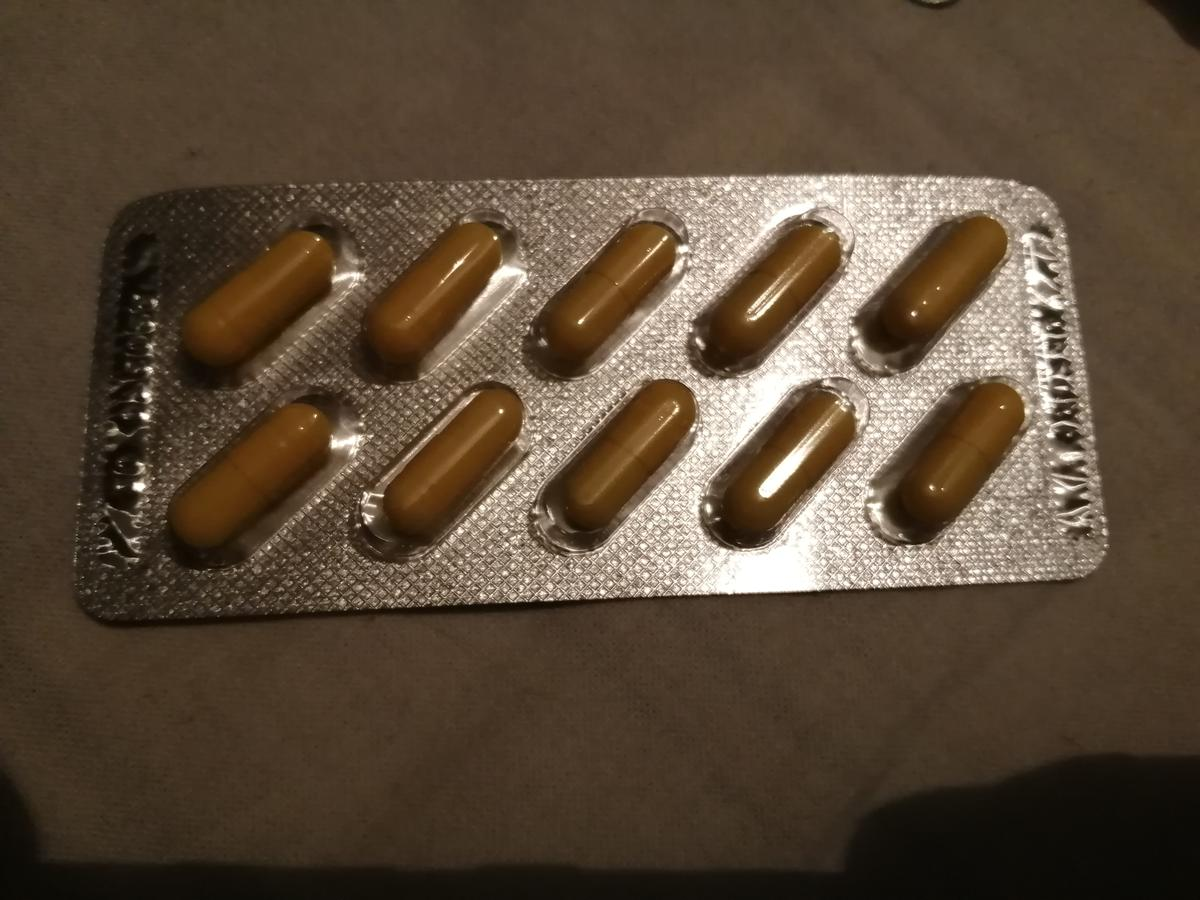capsule: (365, 382, 525, 554), (711, 380, 859, 550), (553, 378, 705, 538), (175, 404, 325, 566), (889, 372, 1033, 540), (517, 216, 677, 362), (353, 216, 509, 364), (175, 230, 339, 370), (697, 218, 849, 360), (877, 216, 1021, 354)
